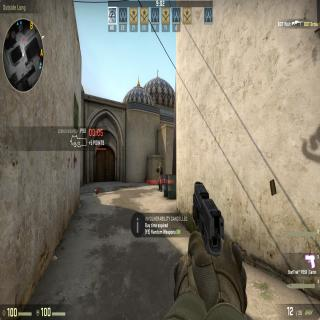T-Body: (157, 161, 163, 192)
T-Head: (159, 162, 161, 166)
